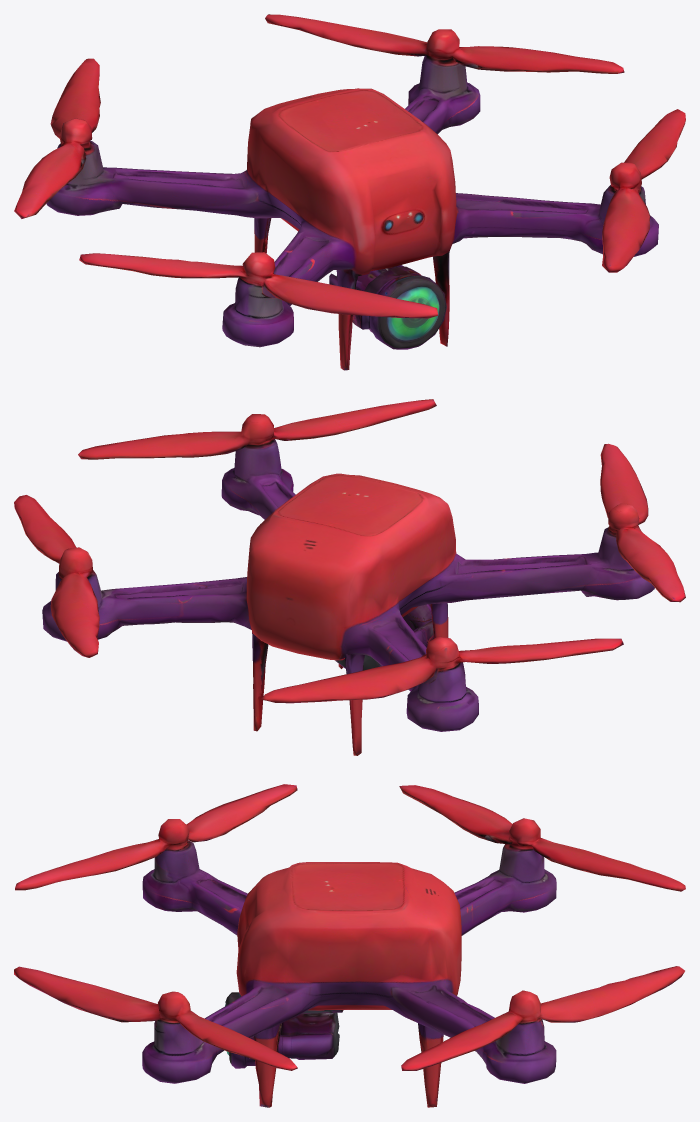
The model's file is Red_Aerial_Explorer_0404141527_texture.glb.
3 views of the same model, one above another, from view 1: azimuth 30°, elevation 25°; view 2: azimuth 150°, elevation 25°; view 3: azimuth 270°, elevation 25° (orthographic). The views are drawn at different scales.
Bounding box in the file's own units: 2 × 0.6573 × 2.
Materials: 1 (1 with a texture image).
